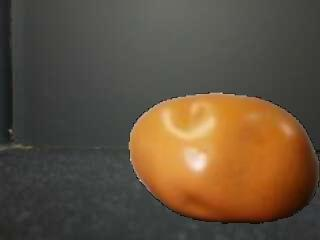Potato: (129, 93, 320, 225)
